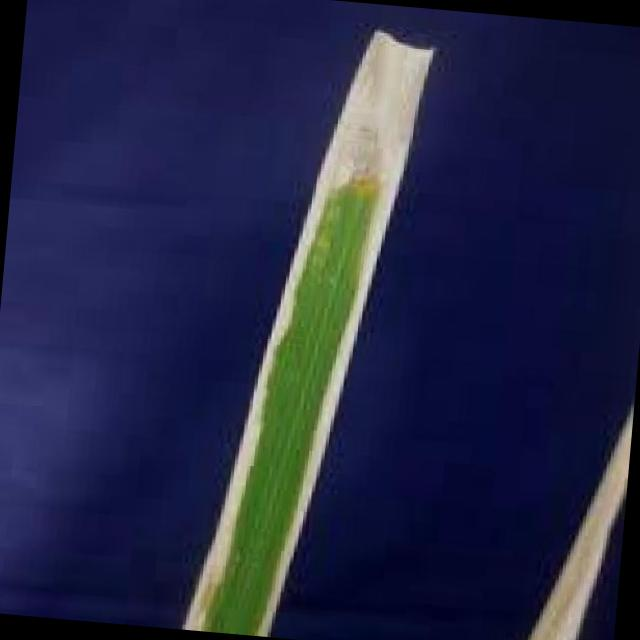Rice_Bacterial_Blight: (169, 11, 441, 640)
